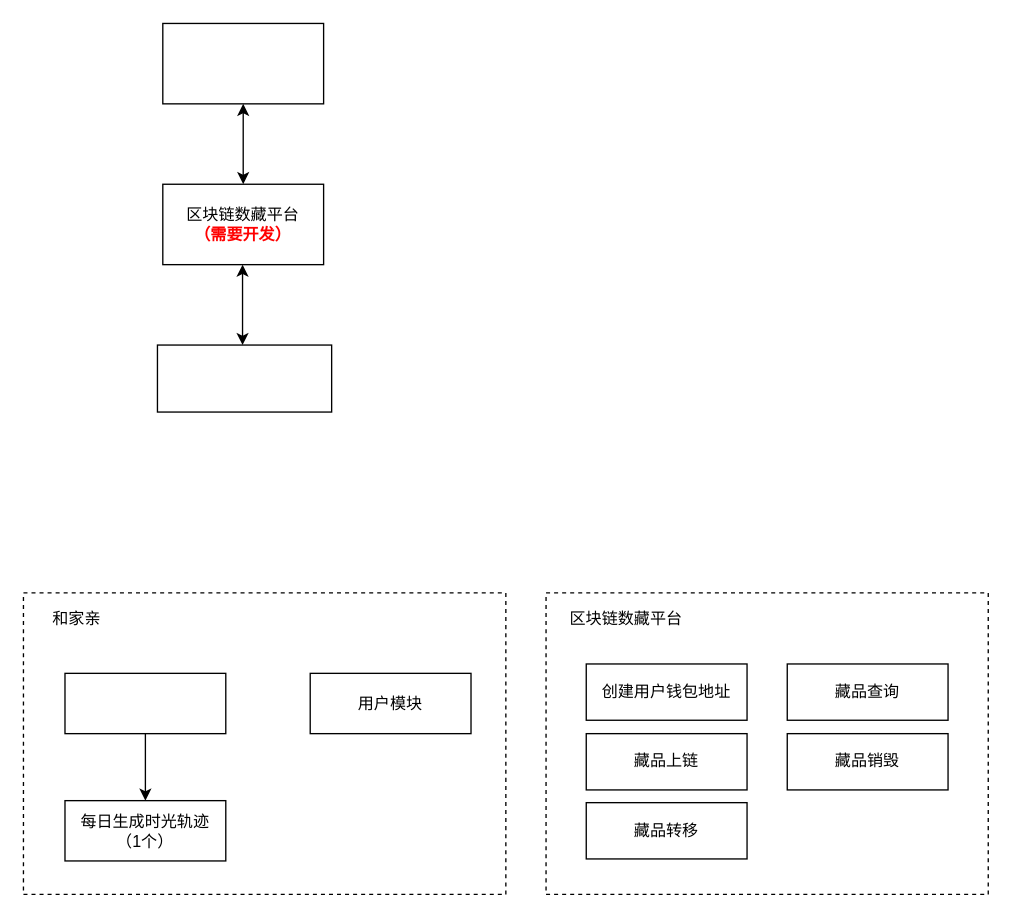
This 1012x918 diagram has some shape labels left out. The centre of each missing label's shape, as x and y in pixels:
中移链平台: the point at 242,63
和家亲App: the point at 244,378
时光轨迹模块: the point at 145,703
